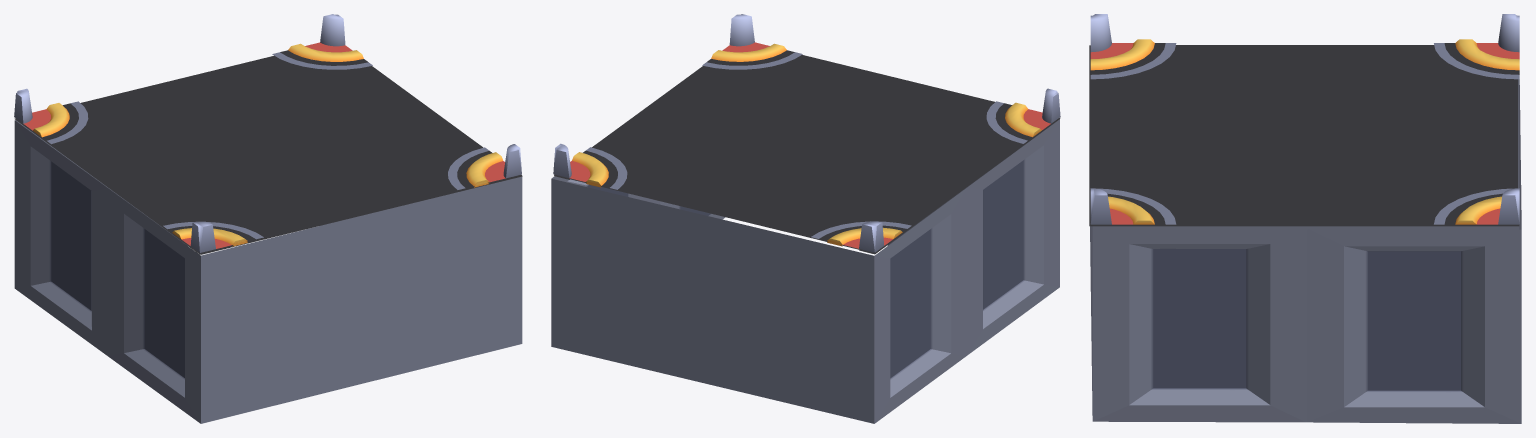
The model's file is elev-track-4-way.glb.
3 views of the same model, side by side, from view 1: azimuth 30°, elevation 25°; view 2: azimuth 150°, elevation 25°; view 3: azimuth 270°, elevation 25° (orthographic). The views are drawn at different scales.
Visible parts, largest first — view 1: track-corner.001; view 2: track-corner.001; view 3: track-corner.001.
Boxes of the visible parts, left/top/right/bottom form: track-corner.001: left=14, top=14, right=522, bottom=423; track-corner.001: left=551, top=14, right=1060, bottom=423; track-corner.001: left=1089, top=14, right=1521, bottom=423.
Size of the model in its own units: 10.04 by 5.87 by 10.09.
Materials: 3 (3 with a texture image).
